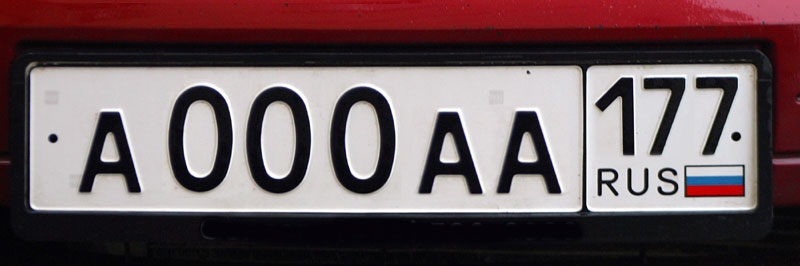number_plate: (17, 61, 760, 203)
